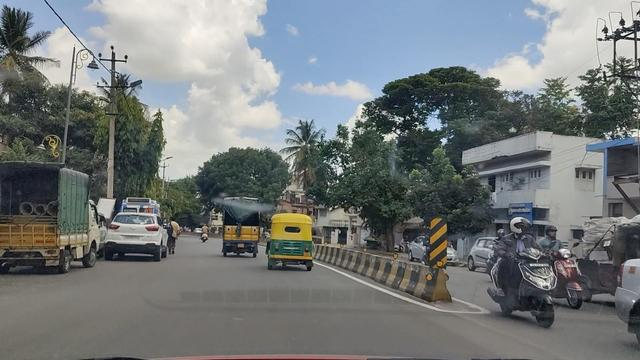HMV: (0, 168, 76, 262), (221, 199, 259, 257)
LMV: (111, 208, 161, 259), (271, 216, 319, 268)
